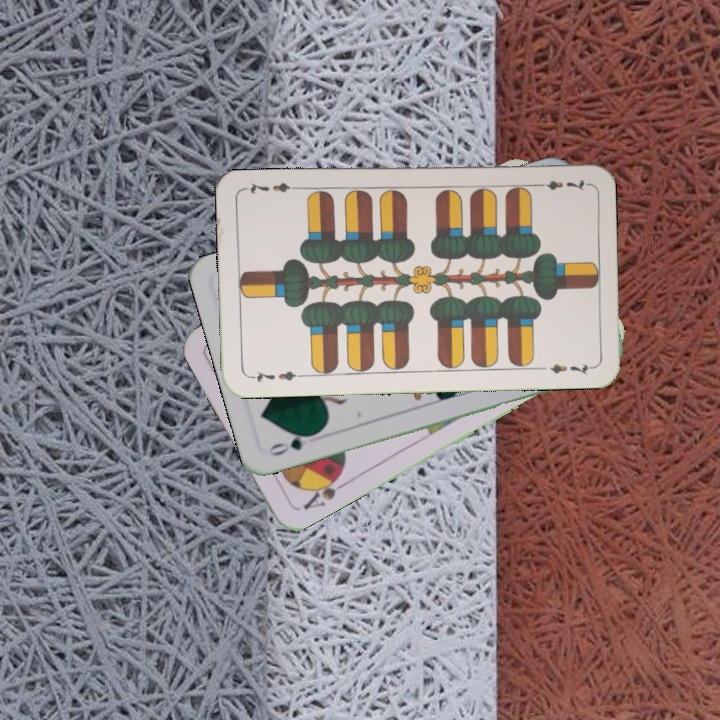E7: (245, 366, 304, 385), (530, 175, 589, 193)
GO: (264, 428, 322, 459)
SA: (298, 469, 350, 513)
